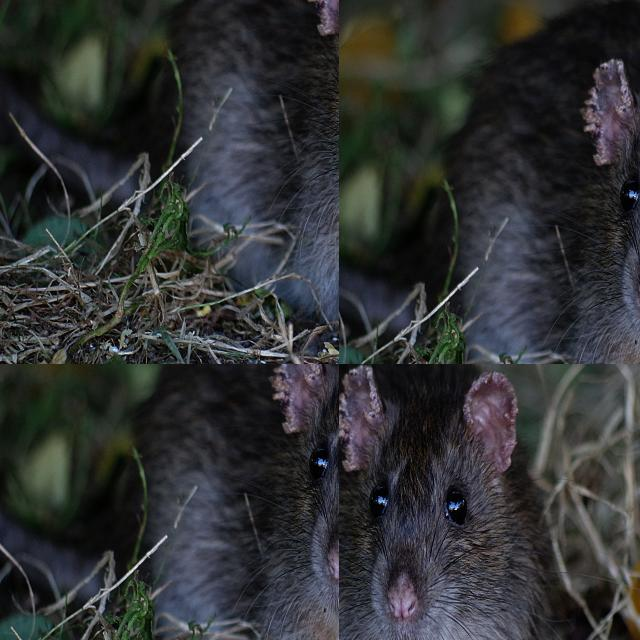rat: (339, 364, 541, 640), (339, 0, 362, 45)
